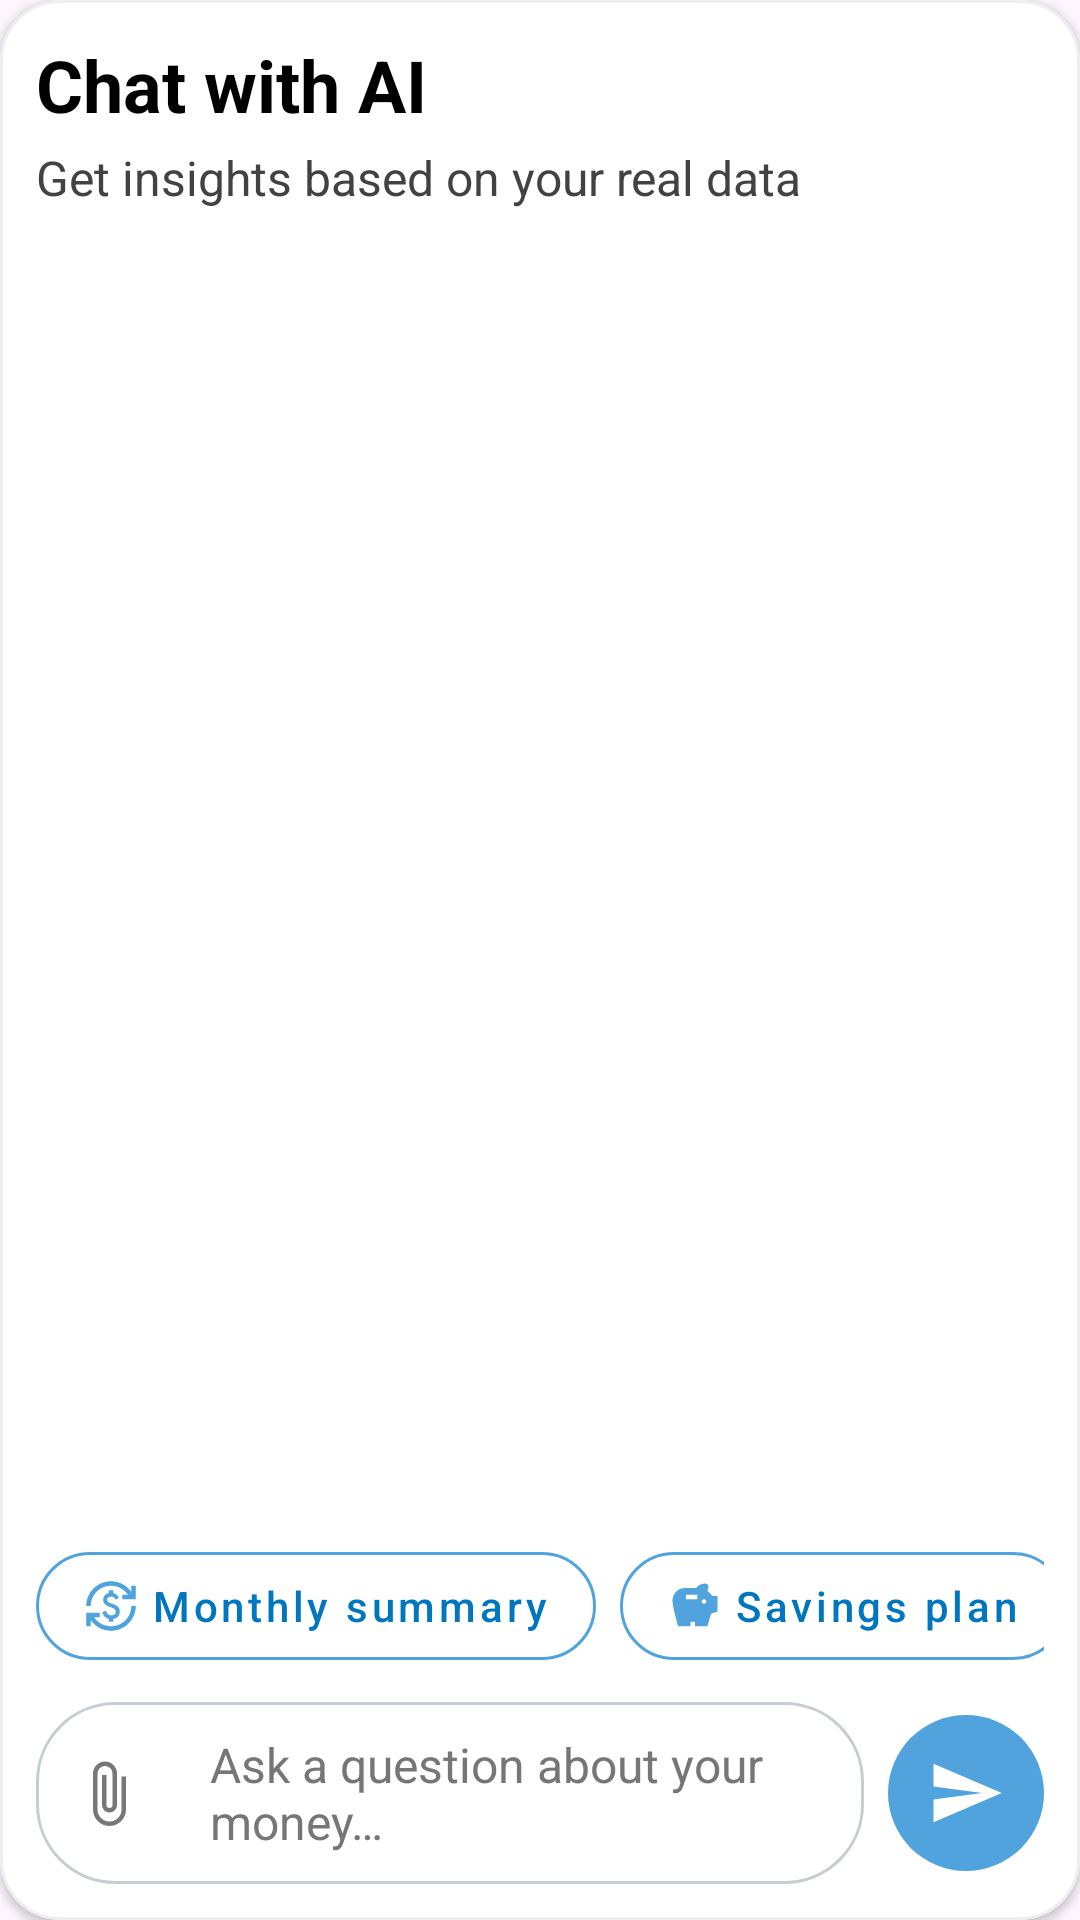

Point at icon controls on the screen. Image size 1080*1920, points as (x=x, y=y).
Attach a file: (x=109, y=1793)
Send message: (x=966, y=1793)
